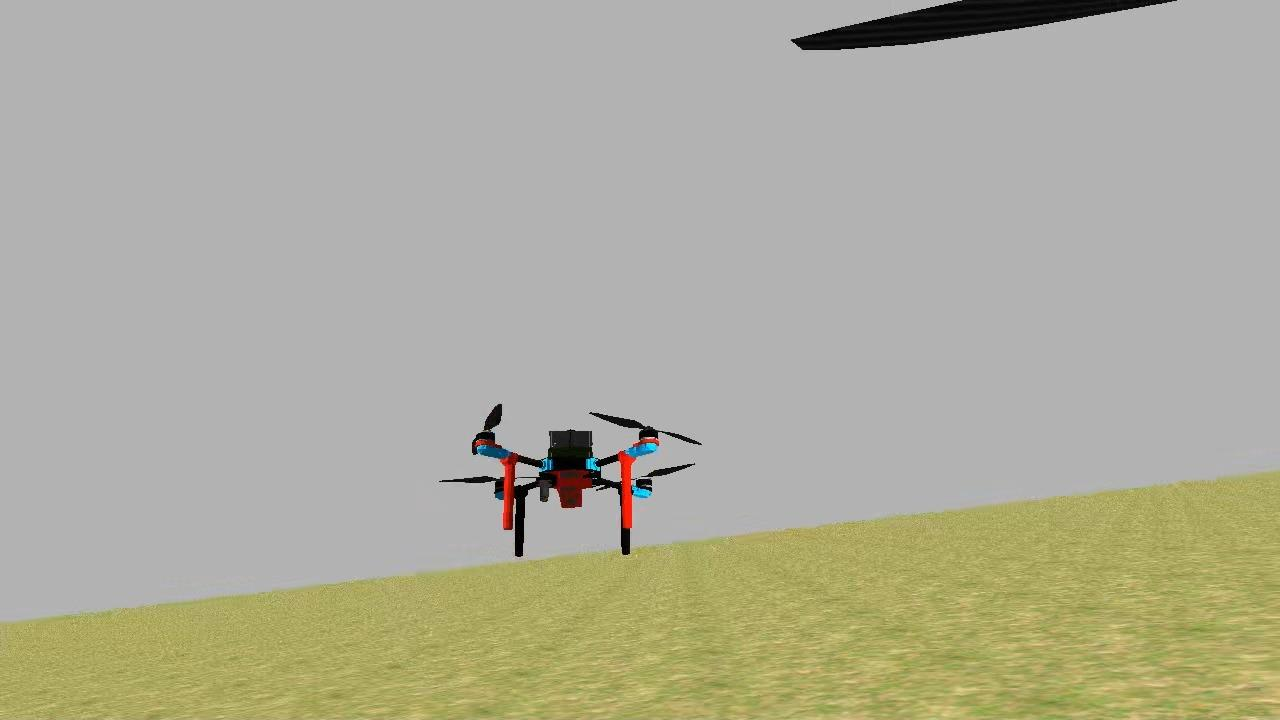UAV: (464, 413, 667, 566)
